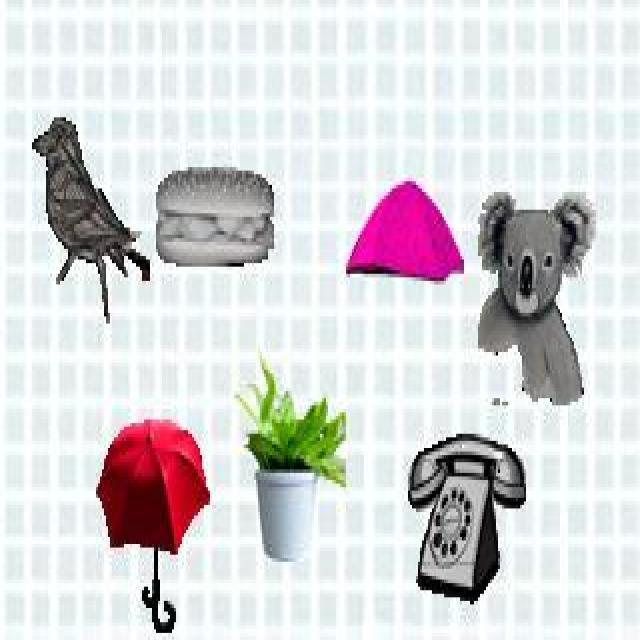Other Objects: (31, 113, 150, 323), (234, 349, 346, 560), (408, 432, 524, 604), (155, 167, 274, 267)
